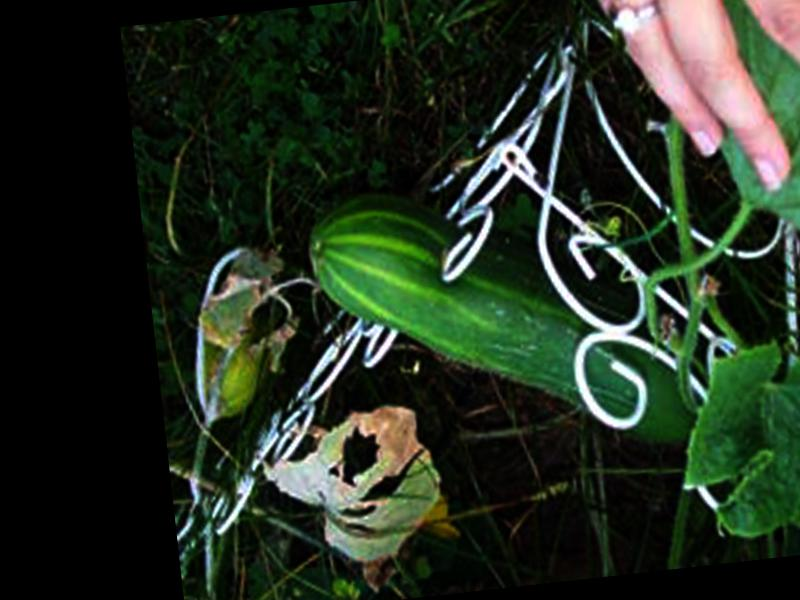Cucumber: (303, 161, 703, 482)
